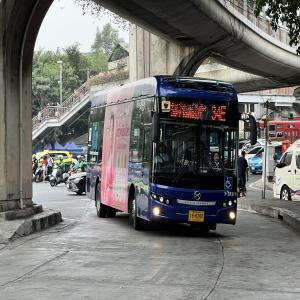Bus Line Number: (210, 100, 230, 125)
Bus Side Number: (221, 189, 237, 197)
Destination Sign: (168, 96, 208, 121)
TSB-Bus: (86, 75, 244, 234)
